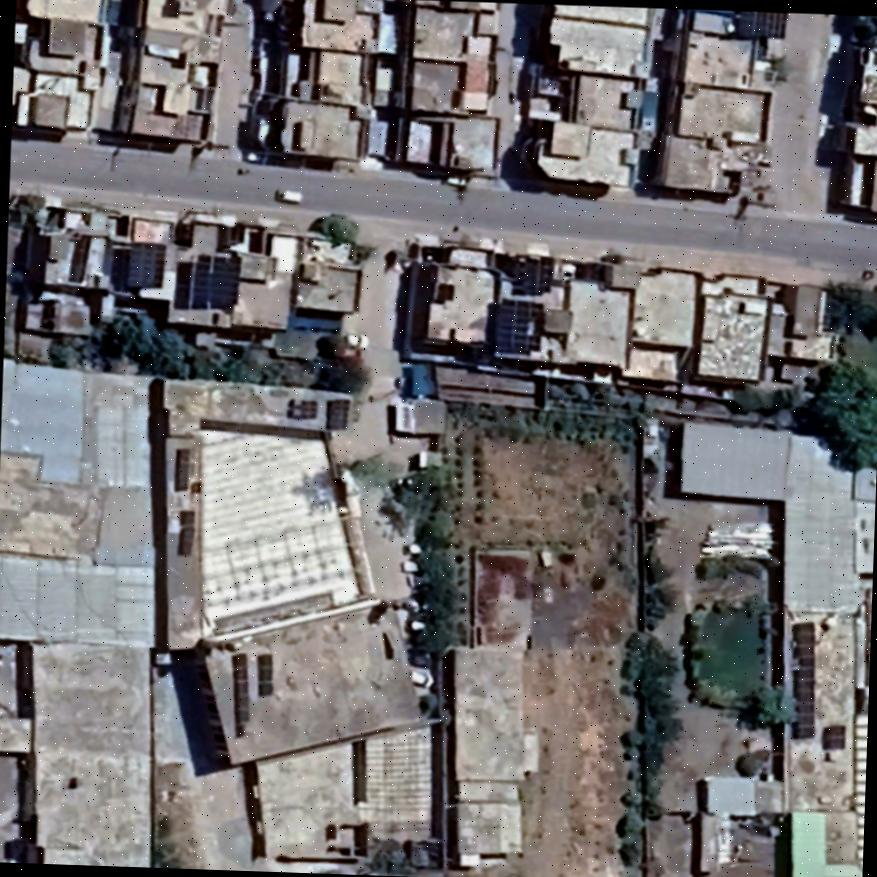Solarpanel: (167, 253, 240, 316), (787, 618, 818, 746), (493, 294, 549, 356), (123, 239, 166, 293), (505, 252, 553, 298), (230, 647, 251, 740), (734, 11, 786, 39), (174, 505, 195, 563), (322, 395, 352, 432), (818, 720, 848, 756), (254, 648, 274, 701), (172, 444, 192, 493)
